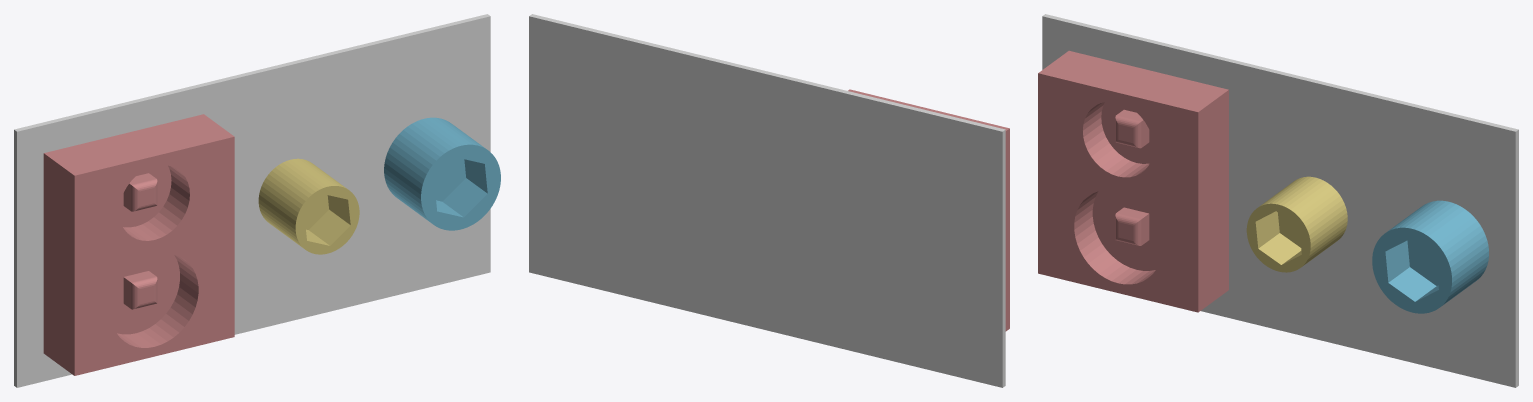
File: pickup_layout.glb
3 views of the same model, side by side, from view 1: azimuth 30°, elevation 25°; view 2: azimuth 150°, elevation 25°; view 3: azimuth 330°, elevation 25° (orthographic).
Visible parts, largest first — view 1: world, 0.obj, 2.obj, 1.obj; view 2: world, 0.obj; view 3: world, 0.obj, 2.obj, 1.obj.
Part boxes in pixels (<box>): world: <box>14,14,490,387</box>; 0.obj: <box>43,114,234,375</box>; 2.obj: <box>384,117,500,230</box>; 1.obj: <box>258,158,359,254</box>; world: <box>529,14,1005,387</box>; 0.obj: <box>848,89,1009,331</box>; world: <box>1042,14,1518,387</box>; 0.obj: <box>1038,50,1228,312</box>; 2.obj: <box>1372,200,1488,313</box>; 1.obj: <box>1246,176,1347,272</box>.
Size of the model in its own units: 17.75 by 9.17 by 2.6.
